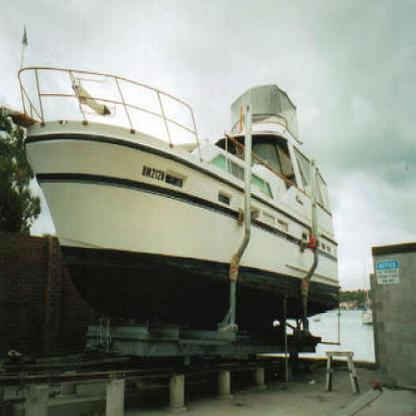boat: (16, 65, 338, 316)
